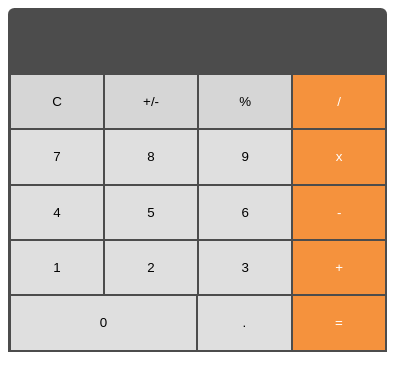
it: Calculator.vue › it shows multiple clicked numbers in the display
Click the button "1" at [58, 269], box [11,241,105,296]
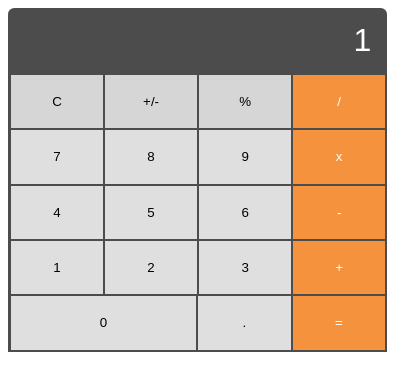
Click the button "2" at [152, 269], box [105,241,199,296]
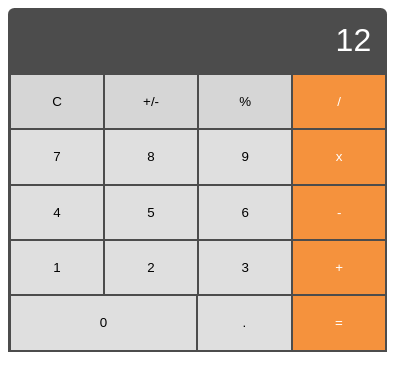
Expected: the text with class "display" reads "12", [336,22,371,58]
